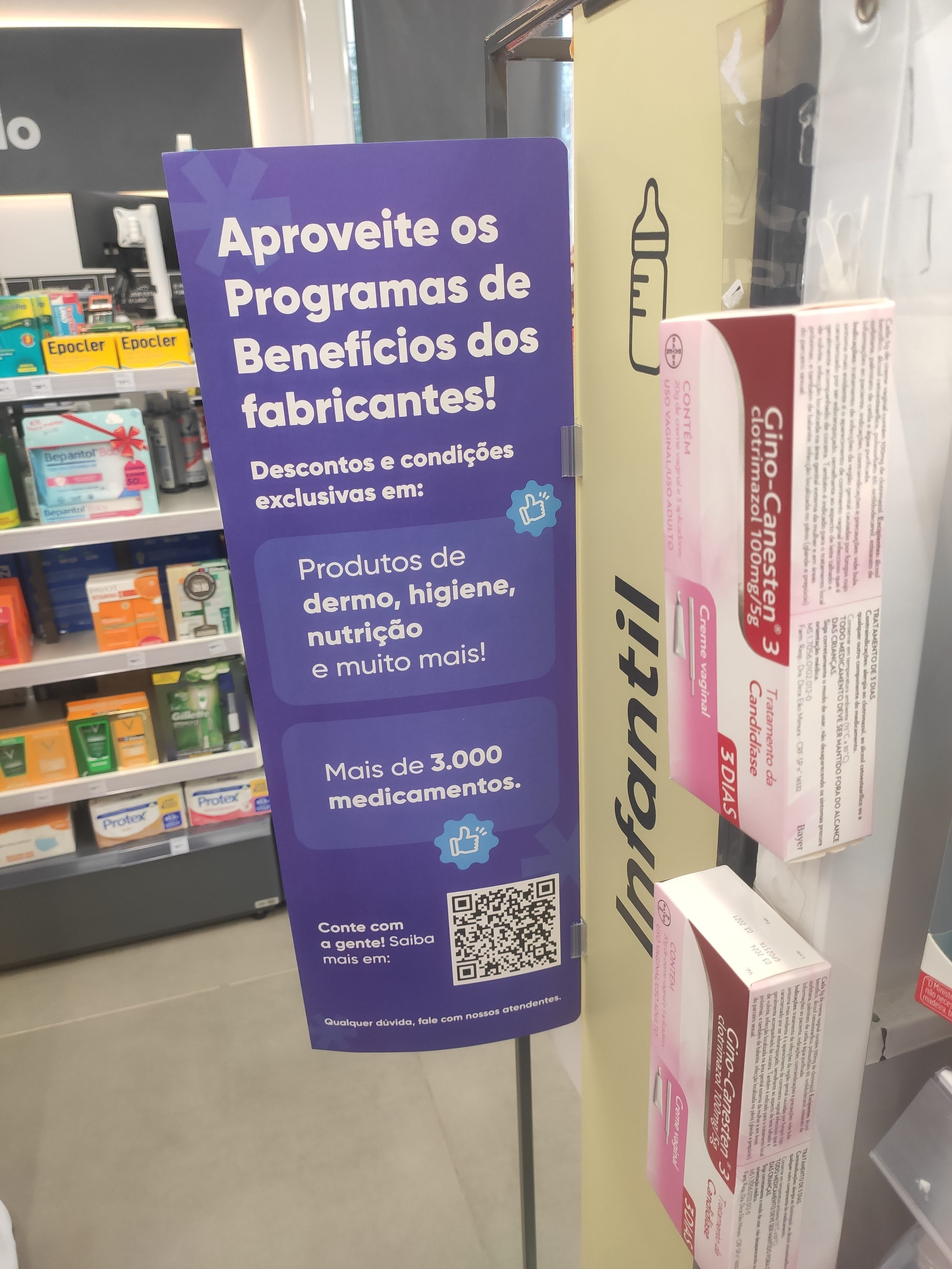QR-CODE: (452, 878, 557, 981)
